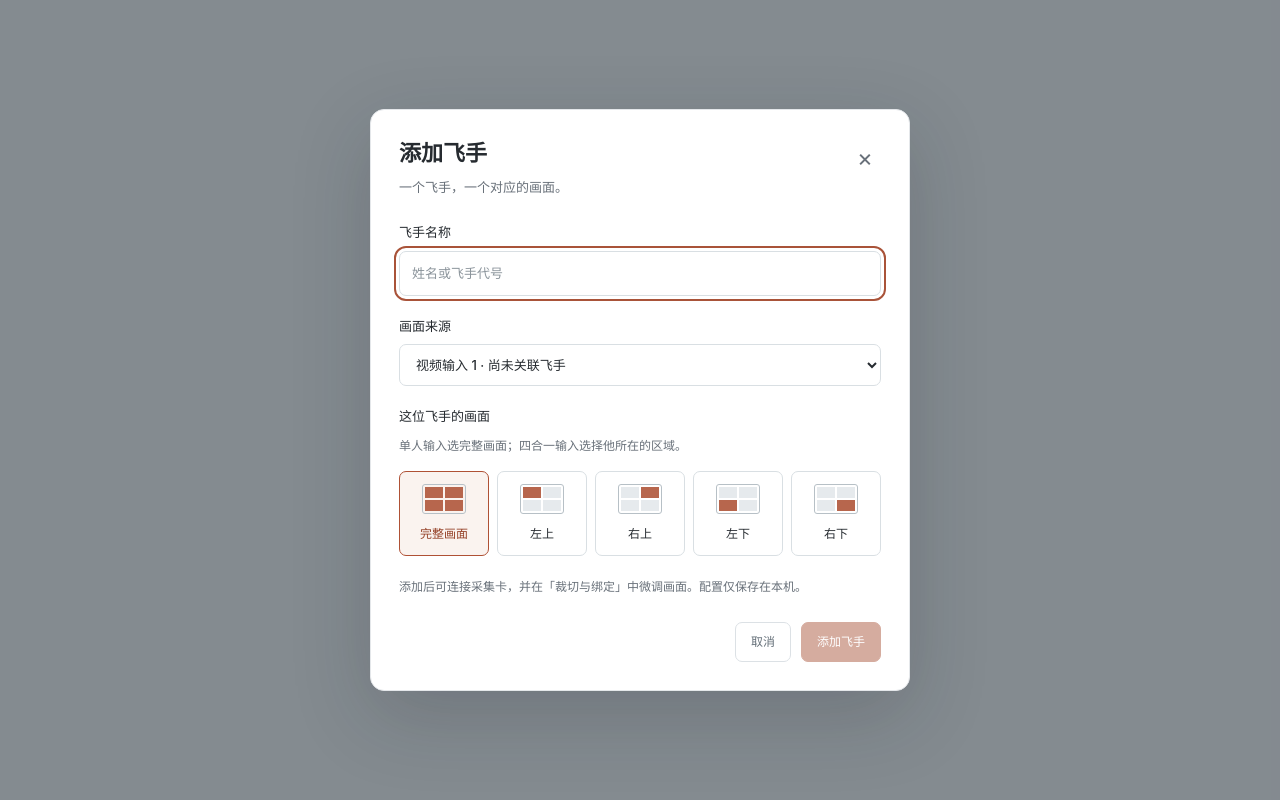
keeps the draft open and reports a persistence failure instead of claiming success
In the field labelled "飞手名称": (640, 273) [399, 251, 881, 296], type "Alpha"
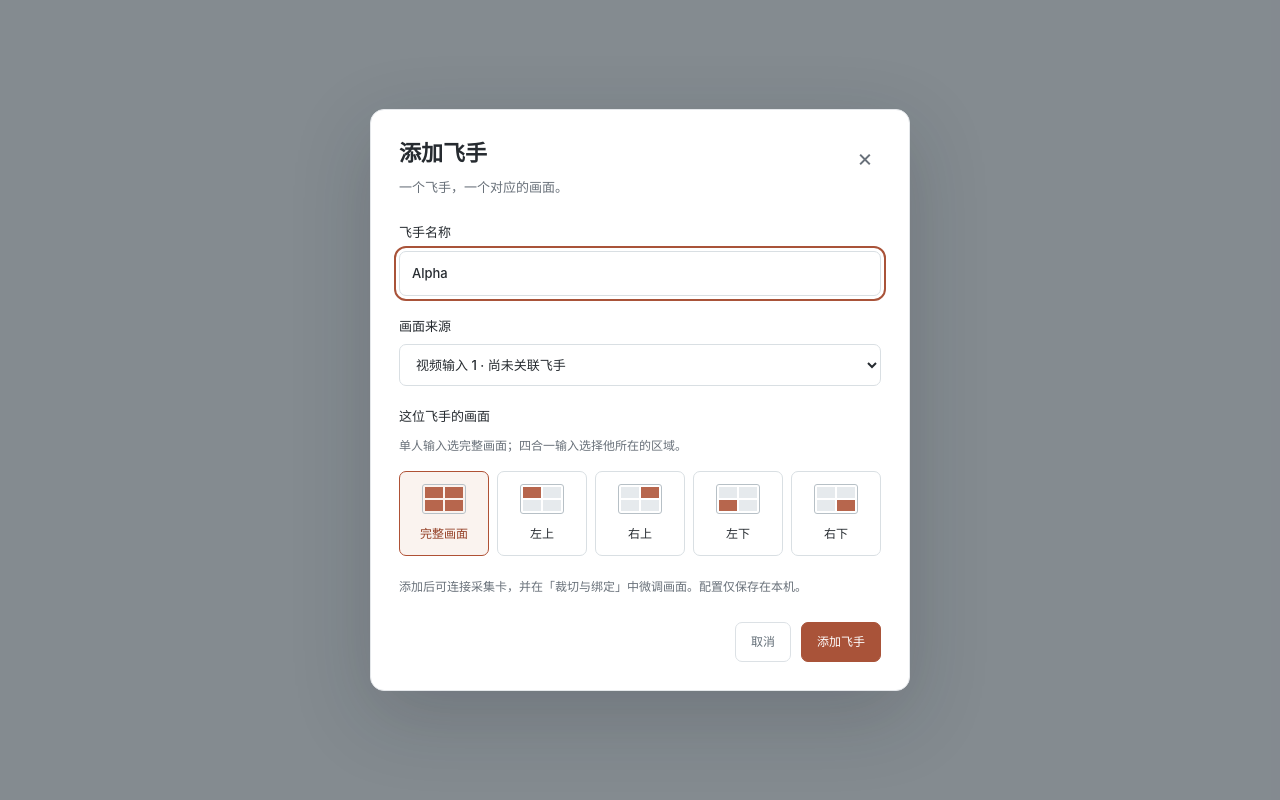
Submit the form, box [399, 138, 881, 662]
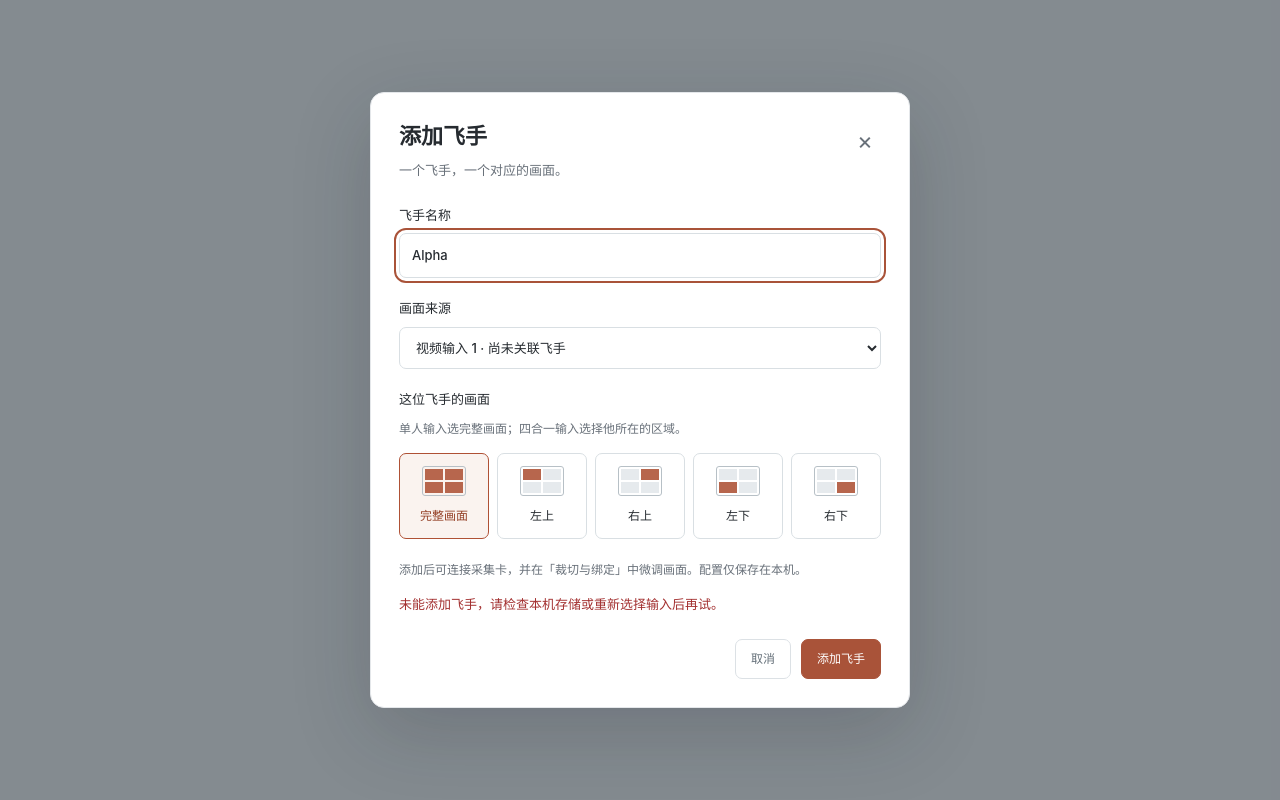
Expected: the message "未能添加飞手，请检查本机存储或重新选择输入后再试。" is shown, [399, 596, 724, 612]
